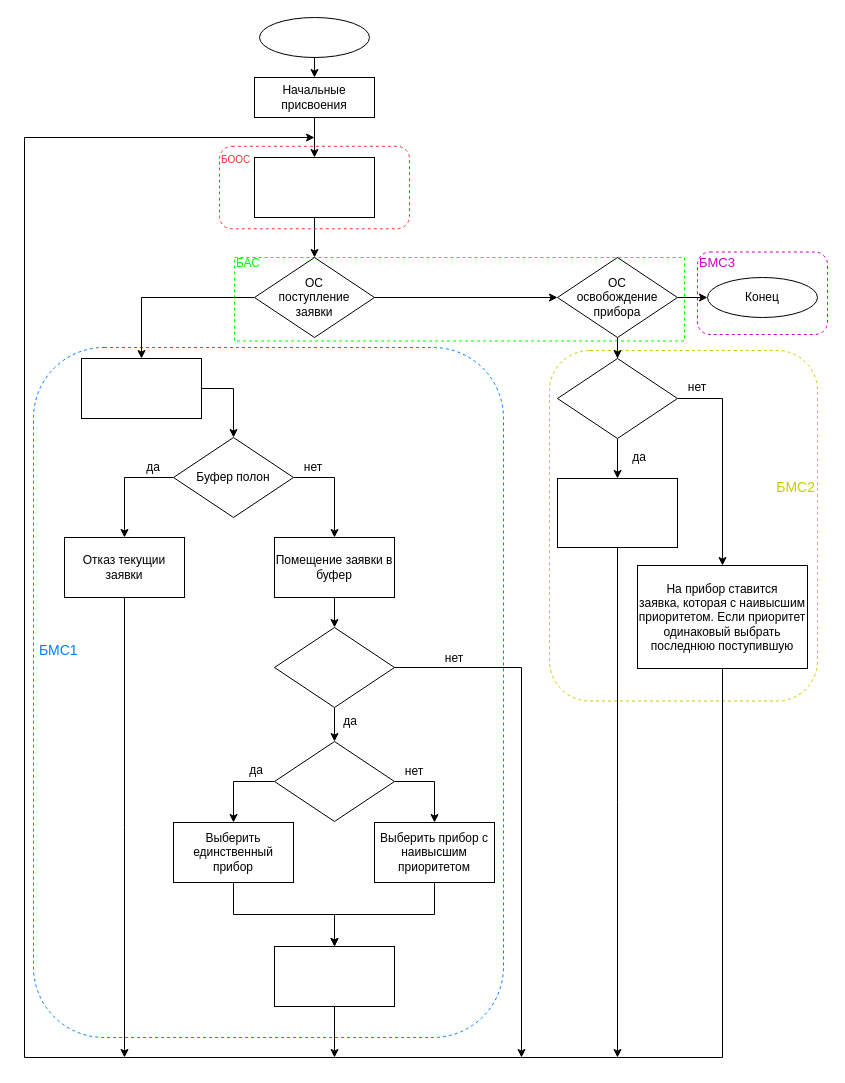
Some shapes in this 845 by 1083 pixel diagram are drawn without their labels. Each missing label, with the centre of its shape:
"Буфер пуст" goes at (x=617, y=398).
"Выбирается ОС с приоритетом 0 и минимальным Тос" goes at (x=314, y=187).
"Генерация следующей заявки" goes at (x=141, y=388).
"Есть свободный прибор" goes at (x=334, y=667).
"Заявка помещается на прибор" goes at (x=334, y=976).
"Количество свободный прибор = 1" goes at (x=334, y=781).
"Начало" goes at (x=314, y=37).
"Прибор в простой. Признак = 1" goes at (x=617, y=513).
